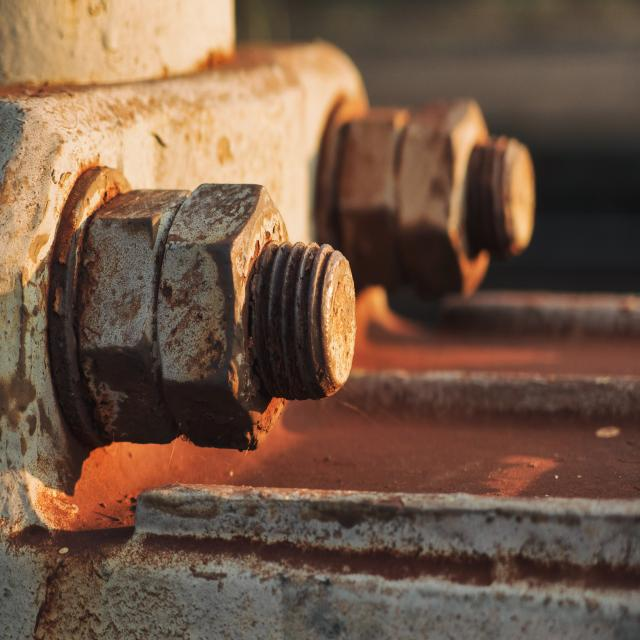Rusty bolt: (175, 189, 339, 447), (75, 180, 179, 450), (398, 105, 532, 300), (342, 104, 401, 292)
